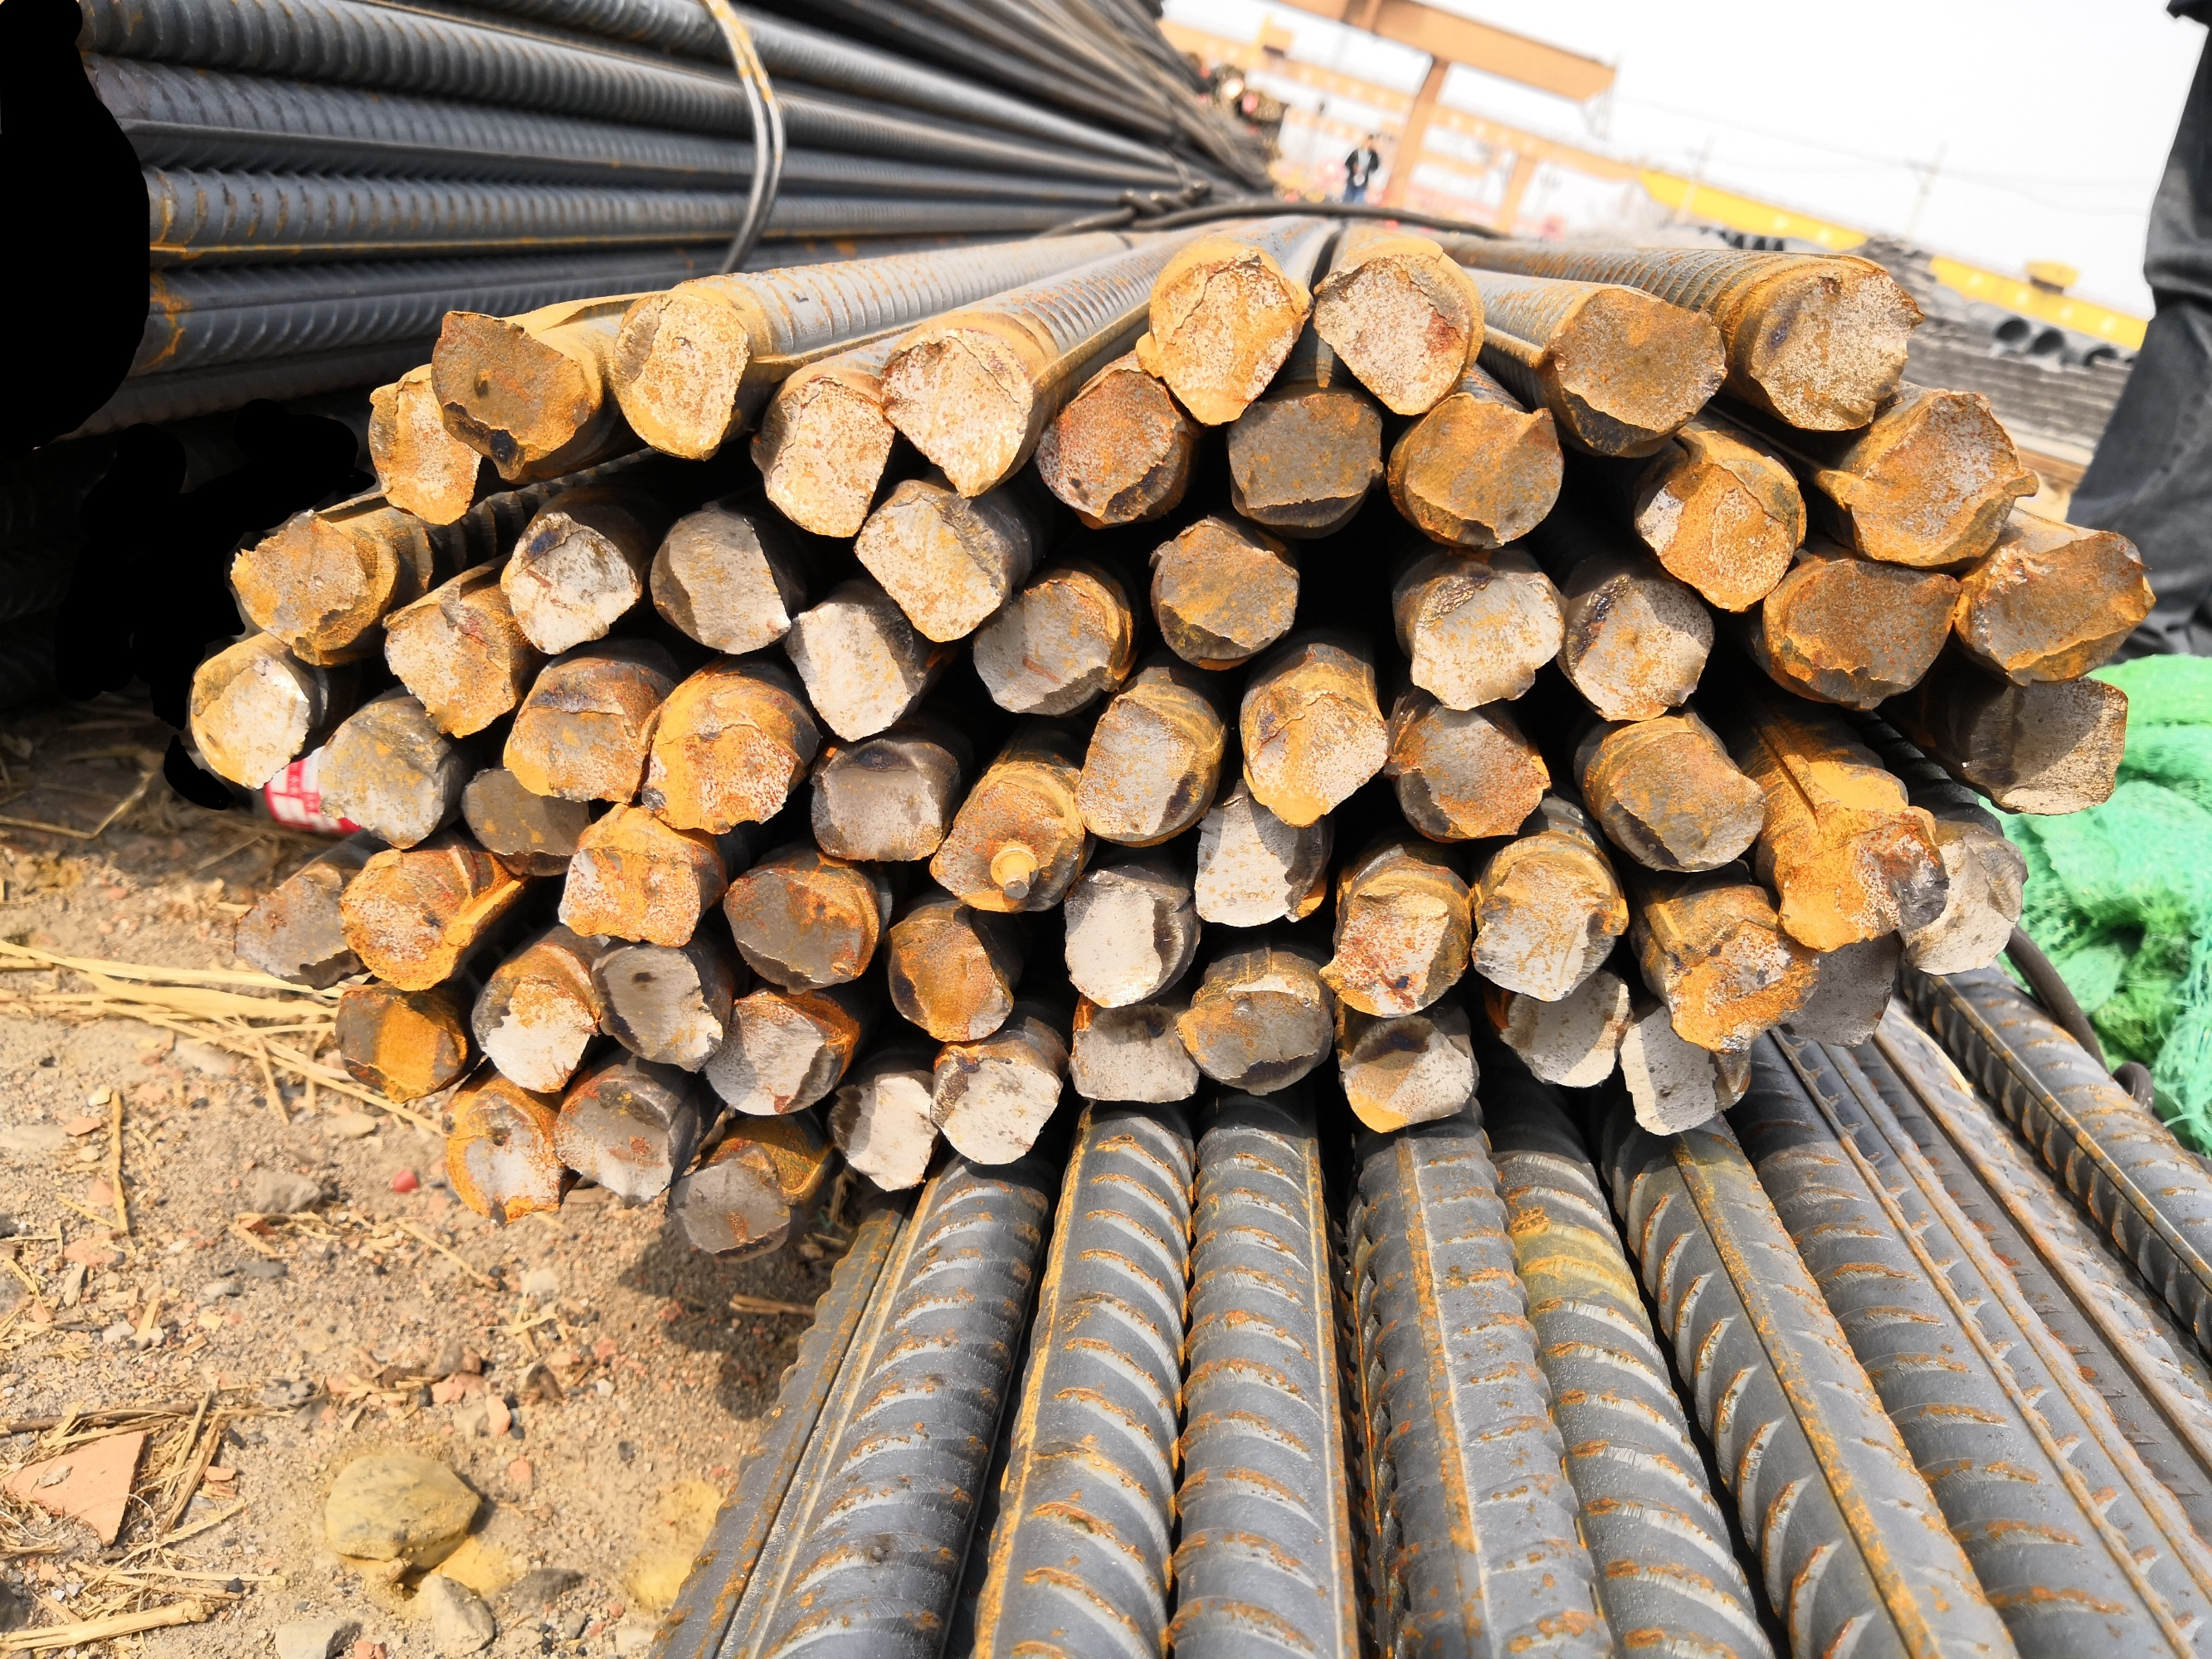rebar: (1815, 383, 2045, 572), (1530, 277, 1731, 458), (1740, 253, 1926, 439), (1754, 556, 1966, 711), (1954, 530, 2156, 688), (1133, 246, 1307, 427), (875, 321, 1042, 505), (425, 305, 594, 483), (1389, 389, 1567, 552), (1557, 563, 1724, 730), (1309, 247, 1475, 416), (1633, 455, 1808, 615), (1768, 807, 1952, 953), (743, 369, 898, 540), (1396, 558, 1567, 713), (1593, 727, 1768, 878), (1028, 364, 1187, 530), (1956, 671, 2130, 821), (1143, 512, 1304, 674), (849, 484, 1009, 643), (605, 288, 751, 460), (1469, 847, 1628, 1002), (924, 769, 1088, 918), (1656, 910, 1823, 1054), (1318, 866, 1473, 1021), (971, 568, 1128, 721), (1218, 389, 1386, 532), (1072, 687, 1220, 847), (647, 502, 795, 660), (1389, 706, 1555, 845), (1239, 680, 1389, 829), (500, 666, 655, 810), (720, 857, 877, 999), (1896, 823, 2032, 983), (500, 509, 641, 662), (640, 709, 800, 840), (875, 901, 1020, 1046), (225, 505, 371, 648), (378, 596, 521, 741), (1189, 788, 1330, 932), (314, 702, 448, 854), (779, 598, 919, 742), (1175, 972, 1330, 1101), (187, 643, 316, 795), (1056, 864, 1189, 1011), (558, 816, 702, 946), (336, 856, 474, 992), (1619, 1000, 1755, 1138), (1332, 1016, 1482, 1136), (587, 945, 723, 1075), (807, 737, 947, 864), (377, 364, 483, 530), (1492, 967, 1632, 1093), (926, 1046, 1067, 1169), (1778, 922, 1909, 1054), (704, 993, 840, 1119), (469, 969, 600, 1098), (549, 1079, 680, 1206), (331, 985, 469, 1105), (458, 762, 594, 882), (439, 1094, 563, 1223), (662, 1141, 795, 1260), (1063, 997, 1201, 1108), (823, 1068, 943, 1195), (228, 871, 359, 988)
